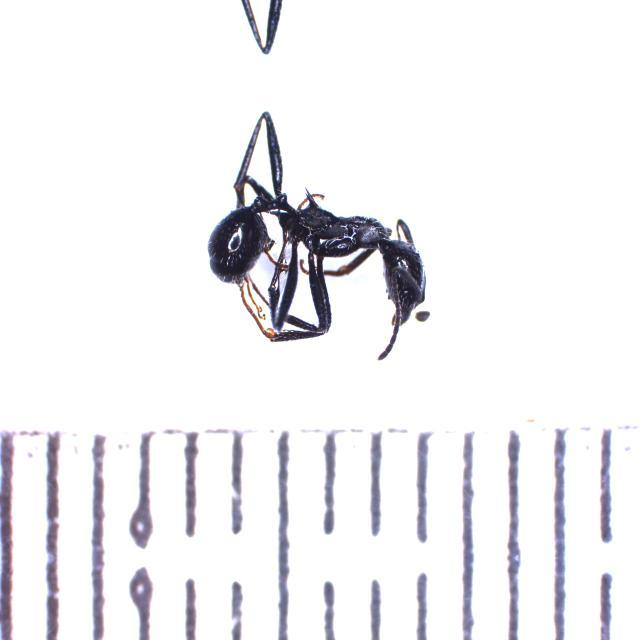Apheanogaster: (178, 142, 458, 342)
